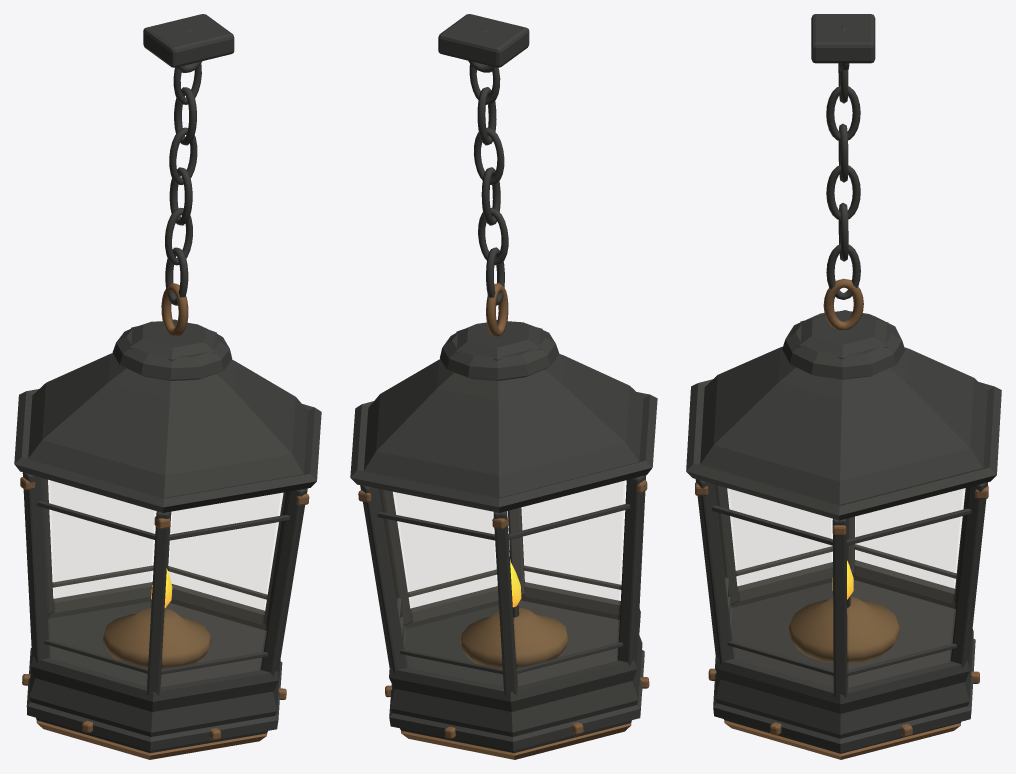
The model's file is hanging-lantern.glb.
3 renders of one model, left to right at view 1: azimuth 30°, elevation 25°; view 2: azimuth 150°, elevation 25°; view 3: azimuth 270°, elevation 25°, orthographic. The views are drawn at different scales.
Parts seen in each view (by area): view 1: Wrought iron cage, Six glass panes, Suspension chain, Oil cup, Fixed mounting hardware, Bronze collar and rivets; view 2: Wrought iron cage, Six glass panes, Suspension chain, Oil cup, Fixed mounting hardware, Bronze collar and rivets; view 3: Wrought iron cage, Six glass panes, Suspension chain, Oil cup, Fixed mounting hardware, Bronze collar and rivets.
Part boxes in pixels (<box>): Wrought iron cage: <box>14,319,321,753</box>; Six glass panes: <box>50,481,280,624</box>; Suspension chain: <box>161,63,201,336</box>; Oil cup: <box>102,608,211,669</box>; Fixed mounting hardware: <box>143,14,234,72</box>; Bronze collar and rivets: <box>20,477,309,759</box>; Wrought iron cage: <box>350,320,657,753</box>; Six glass panes: <box>382,481,623,640</box>; Suspension chain: <box>469,64,508,336</box>; Oil cup: <box>460,608,568,668</box>; Fixed mounting hardware: <box>438,14,529,72</box>; Bronze collar and rivets: <box>358,480,649,759</box>; Wrought iron cage: <box>686,310,1001,753</box>; Six glass panes: <box>718,486,962,616</box>; Suspension chain: <box>823,64,863,329</box>; Oil cup: <box>788,596,900,663</box>; Fixed mounting hardware: <box>811,14,875,70</box>; Bronze collar and rivets: <box>695,482,988,759</box>.
Bounding box in the file's own units: 0.3433 × 0.7392 × 0.3025.
